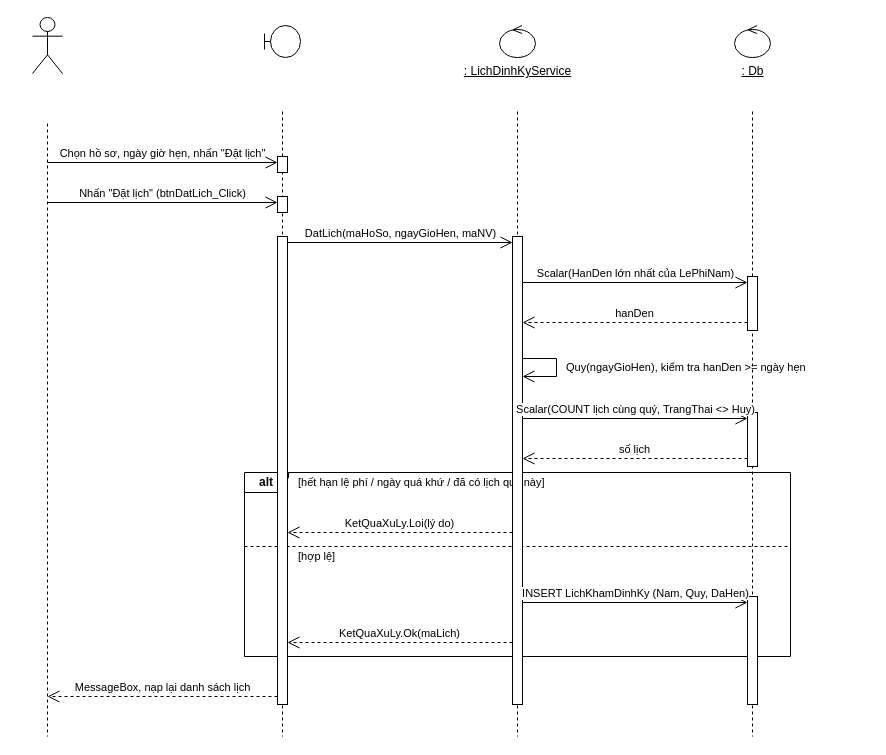
Image size: 886x755. Some labels were removed from this diagram. The box of each missing label's shape, as (x1, y1, x2, y2) in pixels:
: FrmLichDinhKy: (264, 24, 300, 58)
: NV CSKH: (32, 16, 62, 74)
